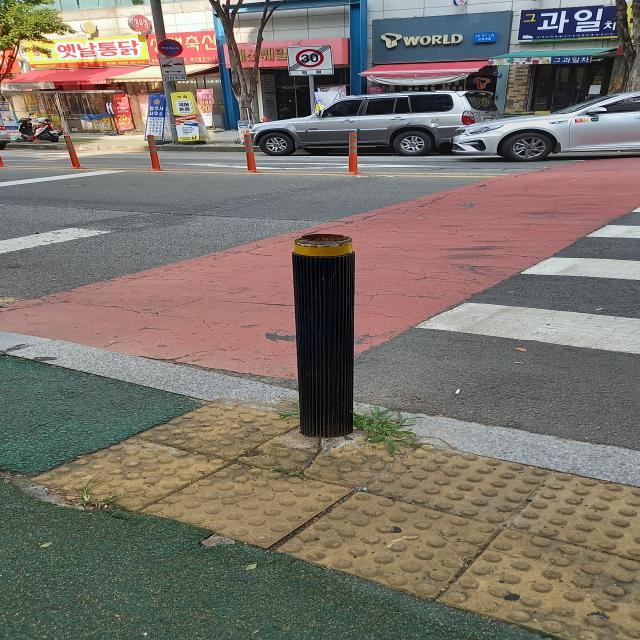pole: (292, 233, 354, 438)
